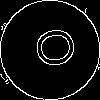O: (25, 25, 77, 72)
